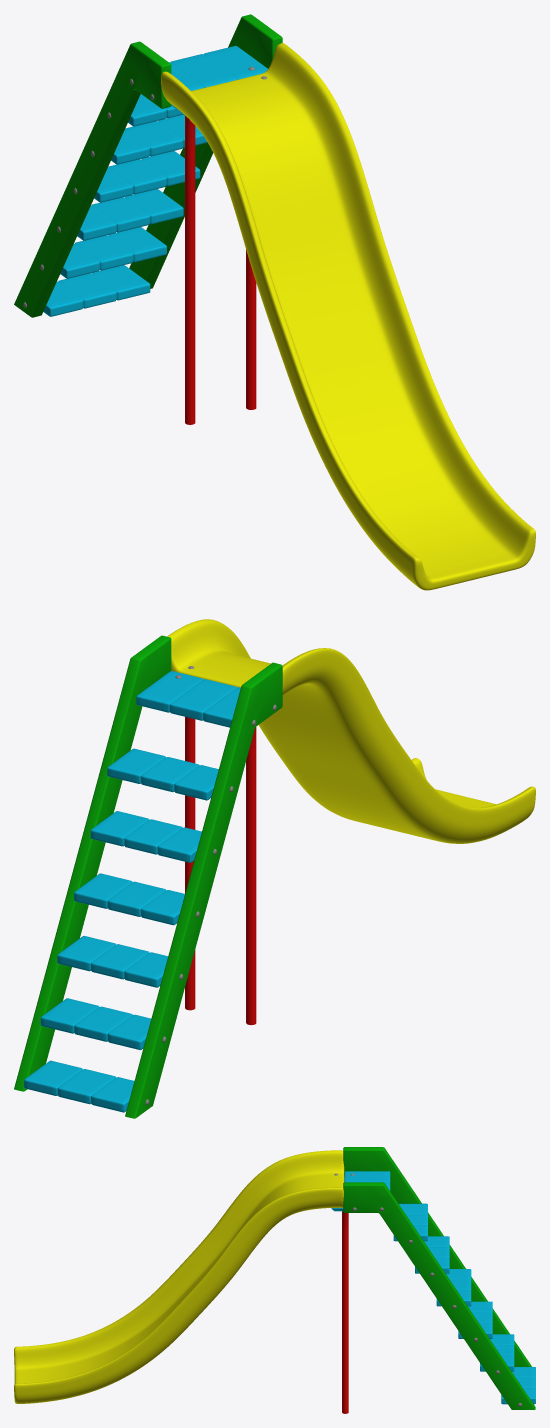
Rendered from slide.fbx.
The picture shows the model from 3 angles, top to bottom: view 1: azimuth 30°, elevation 25°; view 2: azimuth 150°, elevation 25°; view 3: azimuth 270°, elevation 25°; orthographic projection. The views are drawn at different scales.
Parts seen in each view (by area): view 1: Slide; view 2: Slide; view 3: Slide.
Boxes of the visible parts, x1=… form: Slide: x1=14, y1=14, x2=535, y2=590; Slide: x1=14, y1=619, x2=535, y2=1118; Slide: x1=14, y1=1147, x2=535, y2=1413.
Bounding box in the file's own units: 64.92 × 182 × 363.
